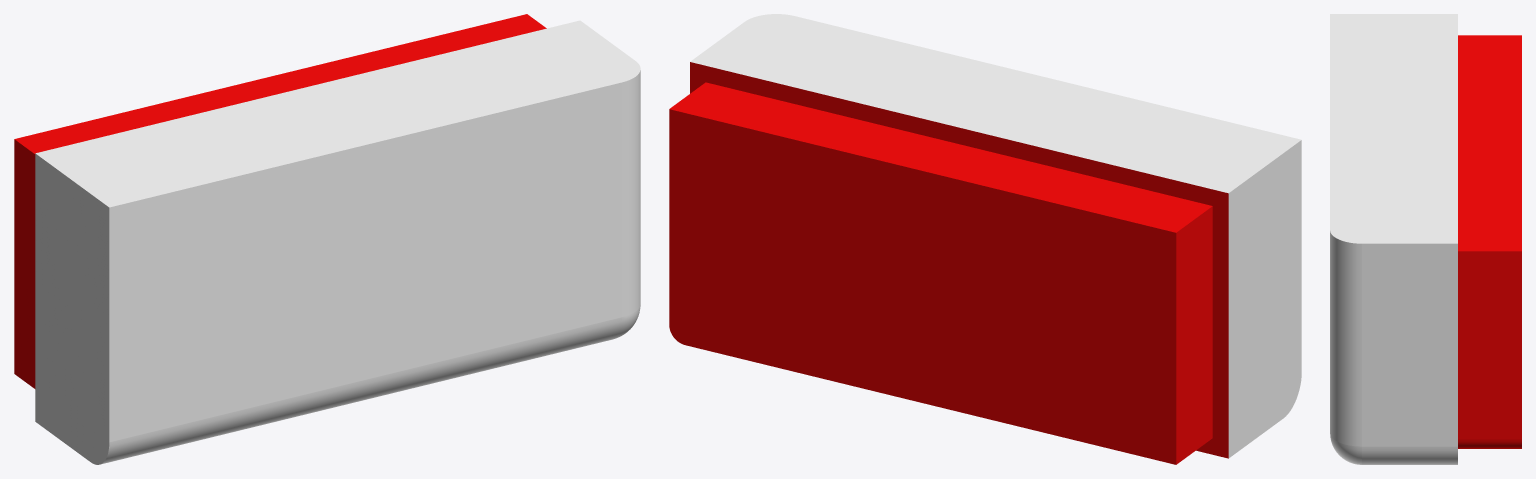
File: original-1.obj
3 views of the same model, side by side, from view 1: azimuth 30°, elevation 25°; view 2: azimuth 150°, elevation 25°; view 3: azimuth 270°, elevation 25° (orthographic). The views are drawn at different scales.
Visible parts, largest first — view 1: MW_opener1/MW_opener/mesh1/mesh1-geometry#mesh1-geometry; view 2: MW_opener1/MW_opener/mesh1/mesh1-geometry#mesh1-geometry; view 3: MW_opener1/MW_opener/mesh1/mesh1-geometry#mesh1-geometry.
Part boxes in pixels (x1,y1,x2,y2): MW_opener1/MW_opener/mesh1/mesh1-geometry#mesh1-geometry: (14,14,640,464); MW_opener1/MW_opener/mesh1/mesh1-geometry#mesh1-geometry: (669,14,1301,464); MW_opener1/MW_opener/mesh1/mesh1-geometry#mesh1-geometry: (1330,14,1521,464).
Size of the model in its own units: 0.2697 by 0.1269 by 0.0952.
